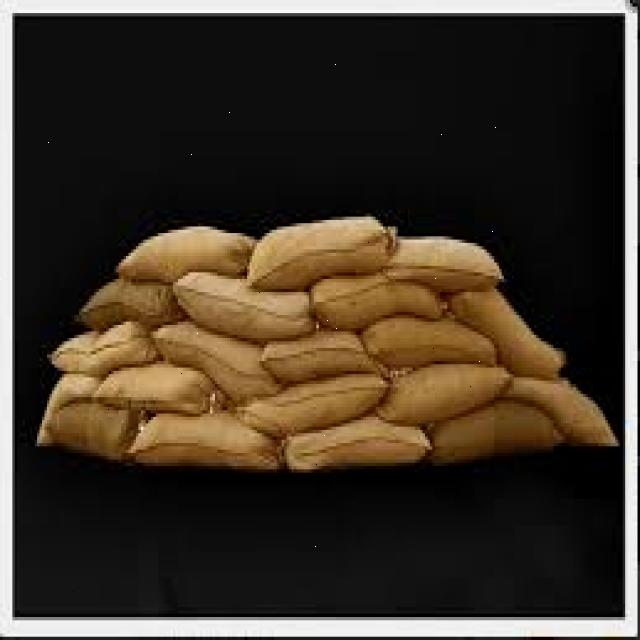sack: (247, 220, 400, 292), (126, 408, 282, 474), (234, 373, 384, 437), (430, 404, 566, 468), (178, 275, 315, 338), (314, 271, 454, 332), (281, 416, 428, 470), (377, 361, 505, 423), (116, 230, 250, 281), (363, 316, 496, 367), (93, 363, 224, 414), (256, 334, 386, 380), (392, 238, 500, 293)
